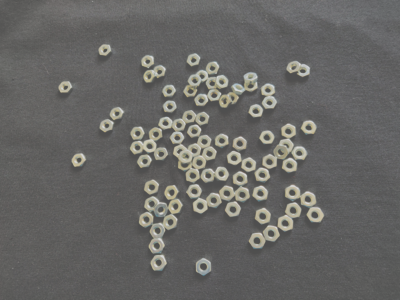nut: (196, 258, 212, 277), (249, 233, 266, 250), (263, 226, 280, 243), (300, 192, 317, 209), (150, 256, 168, 272), (285, 203, 303, 219), (306, 208, 325, 223), (278, 216, 294, 233), (255, 209, 272, 225), (225, 202, 242, 218), (206, 193, 222, 210), (153, 202, 169, 218), (168, 199, 184, 215), (253, 186, 269, 202), (282, 158, 298, 174), (145, 196, 160, 213), (235, 187, 250, 204), (149, 239, 165, 254), (150, 224, 166, 239), (163, 215, 178, 231), (286, 186, 301, 202), (193, 199, 208, 215), (144, 180, 160, 195), (220, 186, 235, 202), (255, 168, 271, 183), (263, 154, 278, 170), (274, 145, 290, 160), (301, 121, 318, 135), (139, 213, 154, 228), (165, 186, 180, 201), (233, 172, 248, 187), (242, 158, 257, 173), (227, 151, 242, 166), (233, 137, 248, 152), (282, 124, 297, 139), (149, 127, 164, 142), (187, 185, 203, 199), (259, 131, 275, 145), (130, 127, 146, 141), (137, 155, 152, 169), (186, 169, 200, 184), (214, 167, 229, 181), (203, 147, 217, 162), (197, 135, 212, 149), (215, 134, 229, 149), (110, 107, 125, 121), (195, 112, 210, 126), (249, 104, 264, 118), (287, 61, 302, 75), (215, 75, 229, 90), (71, 154, 87, 167), (292, 147, 308, 160), (262, 97, 278, 110), (187, 75, 203, 88), (201, 169, 215, 183), (280, 139, 294, 153), (178, 158, 192, 172), (193, 156, 207, 170), (179, 151, 193, 165), (174, 145, 188, 159), (188, 144, 202, 158), (130, 141, 144, 155), (143, 140, 157, 154), (159, 117, 173, 131), (154, 148, 169, 161), (100, 120, 115, 133), (170, 132, 185, 145), (187, 125, 202, 138), (182, 111, 197, 124), (162, 85, 177, 98), (183, 85, 198, 98), (172, 119, 186, 132), (163, 101, 177, 114), (261, 84, 275, 97), (297, 65, 311, 78), (195, 94, 209, 107), (208, 89, 222, 102), (187, 54, 201, 67), (206, 62, 220, 75), (144, 70, 157, 83), (153, 65, 166, 78), (220, 95, 233, 108), (226, 92, 239, 105), (59, 82, 73, 94), (231, 84, 246, 95), (142, 56, 155, 68), (206, 77, 218, 90), (196, 71, 209, 83), (244, 82, 258, 93), (244, 73, 258, 84), (99, 45, 112, 56)
